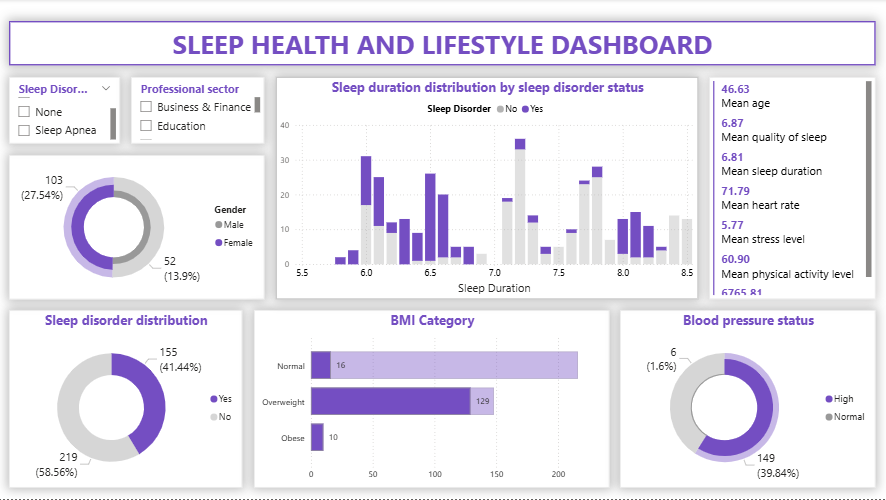

Layout of this report page (visuals, bound fields, positions):
{"tool":"powerbi","page":{"name":"Page 1","canvas":[1280,720],"ordinal":0},"visuals":[{"type":"textbox","box":[16,32,1248,64],"z":0},{"type":"donutChart","title":"Sleep disorder distribution","fields":{"Y":["CountNonNull(sleep_dataset_cleaned.Column1)"],"Category":["sleep_dataset_cleaned.Sleep_Disorder_Flag"]},"box":[16,448,336,256],"z":1000},{"type":"donutChart","title":"Gender distribution","fields":{"Category":["sleep_dataset_cleaned.Gender"],"Y":["CountNonNull(sleep_dataset_cleaned.Column1)"]},"box":[16,224,368,208],"z":2000},{"type":"slicer","fields":{"Values":["sleep_dataset_cleaned.Sleep Disorder"]},"box":[16,112,160,96],"z":3000},{"type":"slicer","fields":{"Values":["sleep_dataset_cleaned.Occupation_Group"]},"box":[192,112,192,96],"z":4000},{"type":"barChart","title":"BMI Category","fields":{"Category":["sleep_dataset_cleaned.BMI Category"],"Y":["CountNonNull(sleep_dataset_cleaned.Column1)"]},"box":[368,448,512,256],"z":5000},{"type":"donutChart","title":"Blood pressure status","fields":{"Y":["CountNonNull(sleep_dataset_cleaned.Column1)"],"Category":["sleep_dataset_cleaned.BP_Category"]},"box":[896,448,368,256],"z":6000},{"type":"multiRowCard","fields":{"Values":["Avg(sleep_dataset_cleaned.Age)","Avg(sleep_dataset_cleaned.Quality of Sleep)","Avg(sleep_dataset_cleaned.Sleep Duration)","Avg(sleep_dataset_cleaned.Heart Rate)","Avg(sleep_dataset_cleaned.Stress Level)","Avg(sleep_dataset_cleaned.Physical Activity Level)","Avg(sleep_dataset_cleaned.Daily Steps)"]},"box":[1024,112,240,320],"z":7000},{"type":"columnChart","title":"Sleep duration distribution by sleep disorder status","fields":{"Category":["sleep_dataset_cleaned.Sleep Duration"],"Y":["CountNonNull(sleep_dataset_cleaned.Person ID)"],"Series":["sleep_dataset_cleaned.Sleep_Disorder_Flag"]},"box":[400,112,608,320],"z":8000}]}

Visuals, with their boxes in screenshot pixels (x1, y1, x2, y2), scaled from the page's 1280x720 canvas onto the 886x500 screenshot:
textbox: box(11, 22, 875, 67)
"Sleep disorder distribution" donutChart: box(11, 311, 244, 489)
"Gender distribution" donutChart: box(11, 156, 266, 300)
slicer - sleep_dataset_cleaned.Sleep Disorder: box(11, 78, 122, 144)
slicer - sleep_dataset_cleaned.Occupation_Group: box(133, 78, 266, 144)
"BMI Category" barChart: box(255, 311, 609, 489)
"Blood pressure status" donutChart: box(620, 311, 875, 489)
multiRowCard - Avg(sleep_dataset_cleaned.Age) x Avg(sleep_dataset_cleaned.Quality of Sleep): box(709, 78, 875, 300)
"Sleep duration distribution by sleep disorder status" columnChart: box(277, 78, 698, 300)
